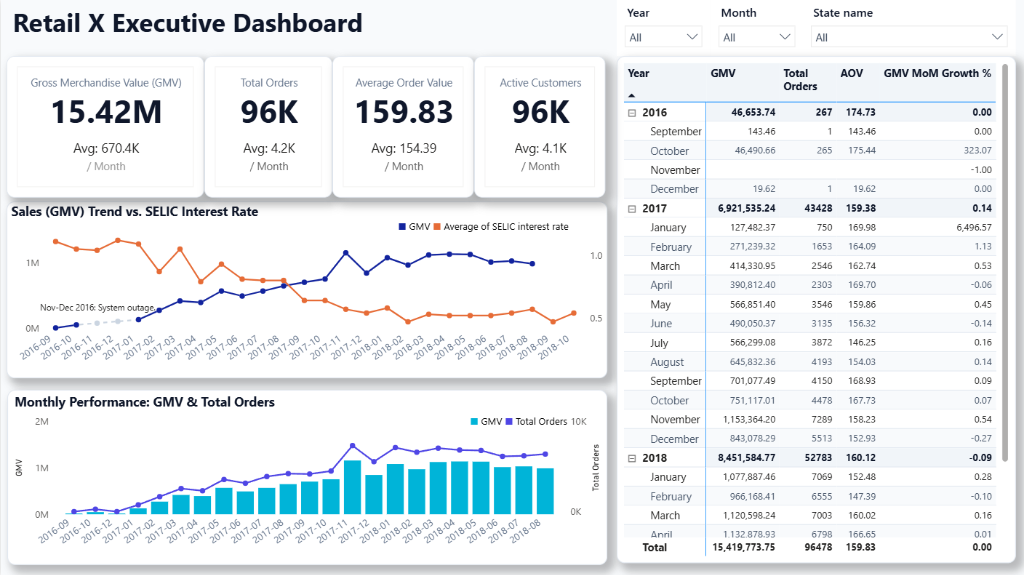

The page's visual inventory and layout, read from the dashboard file:
{"tool":"powerbi","page":{"name":"Page 1","canvas":[1280,720],"ordinal":0},"visuals":[{"type":"textbox","box":[10,0,738.6,60],"z":0},{"type":"slicer","fields":{"Values":["public dim_date.full_date.Variation.Date Hierarchy.Year"]},"box":[793.3,0,94.3,60],"z":1000},{"type":"slicer","fields":{"Values":["public dim_date.full_date.Variation.Date Hierarchy.Month"]},"box":[887.6,0,115.7,60],"z":2000},{"type":"slicer","fields":{"Values":["public dim_demographics.state_name"]},"box":[1003.3,0,248.6,60],"z":3000},{"type":"cardVisual","fields":{"Data":["public fact_sales.GMV"]},"box":[10,60,223.3,135],"z":4000},{"type":"lineChart","title":"Sales (GMV) Trend vs. SELIC Interest Rate","fields":{"Y":["public fact_sales.GMV"],"Y2":["Avg(public dim_macroeconomics.selic_interest_rate)"],"Category":["public dim_date.YearMonthKey"]},"box":[10,205,738.3,215],"z":5000},{"type":"lineClusteredColumnComboChart","title":"Monthly Performance: GMV & Total Orders","fields":{"Category":["public dim_date.YearMonthKey"],"Y":["public fact_sales.GMV"],"Y2":["public fact_sales.Total Orders"]},"box":[10,433.3,738.3,271.7],"z":6000},{"type":"pivotTable","fields":{"Rows":["public dim_date.full_date.Variation.Date Hierarchy.Year","public dim_date.full_date.Variation.Date Hierarchy.Month"],"Values":["public fact_sales.GMV","public fact_sales.Total Orders","public fact_sales.AOV","public fact_sales.GMV MoM Growth %"]},"box":[770,60,498.3,645],"z":6001},{"type":"cardVisual","fields":{"Data":["public fact_sales.Total Orders"]},"box":[233.3,60,140,135],"z":6002},{"type":"cardVisual","fields":{"Data":["public fact_sales.AOV"]},"box":[373.3,60,198.3,135],"z":6003},{"type":"cardVisual","fields":{"Data":["public fact_sales.Active Customers"]},"box":[571.7,60,176.7,135],"z":6004}]}

Visuals, with their boxes in screenshot pixels (x1, y1, x2, y2), scaled from the page's 1280x720 canvas onto the 1024x575 screenshot:
textbox: [8, 0, 599, 48]
slicer - public dim_date.full_date.Variation.Date Hierarchy.Year: [635, 0, 710, 48]
slicer - public dim_date.full_date.Variation.Date Hierarchy.Month: [710, 0, 803, 48]
slicer - public dim_demographics.state_name: [803, 0, 1002, 48]
cardVisual - public fact_sales.GMV: [8, 48, 187, 156]
"Sales (GMV) Trend vs. SELIC Interest Rate" lineChart: [8, 164, 599, 335]
"Monthly Performance: GMV & Total Orders" lineClusteredColumnComboChart: [8, 346, 599, 563]
pivotTable - public dim_date.full_date.Variation.Date Hierarchy.Year x public dim_date.full_date.Variation.Date Hierarchy.Month: [616, 48, 1015, 563]
cardVisual - public fact_sales.Total Orders: [187, 48, 299, 156]
cardVisual - public fact_sales.AOV: [299, 48, 457, 156]
cardVisual - public fact_sales.Active Customers: [457, 48, 599, 156]
